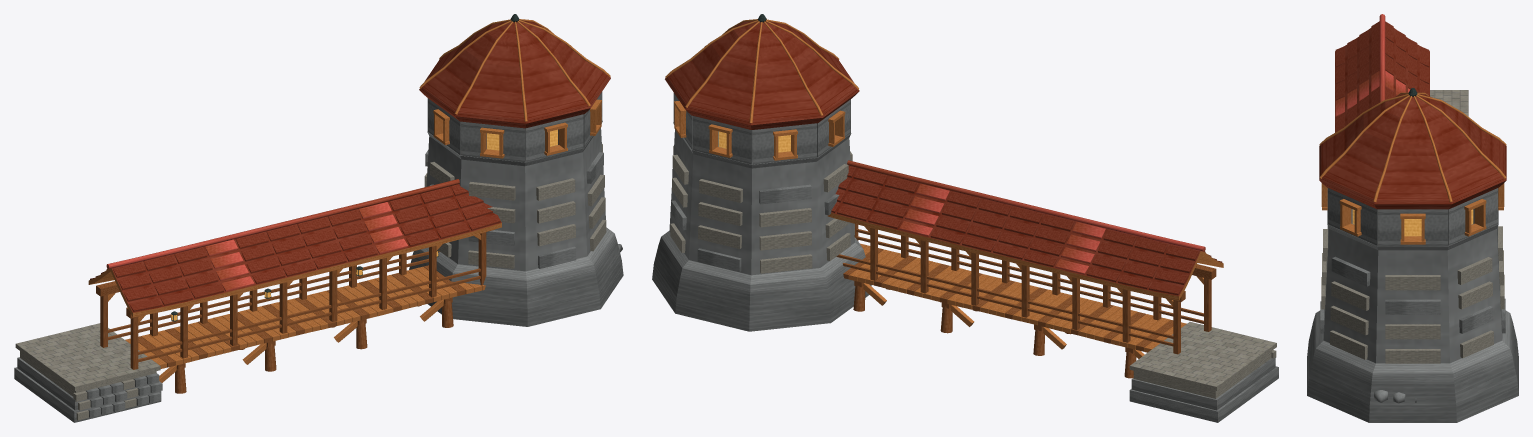
File: alps_kapell_bridge_mid.glb
The picture shows the model from 3 angles, left to right: view 1: azimuth 30°, elevation 25°; view 2: azimuth 150°, elevation 25°; view 3: azimuth 270°, elevation 25°; orthographic projection. The views are drawn at different scales.
Visible parts, largest first — view 1: alps_kapell_bridge_mid; view 2: alps_kapell_bridge_mid; view 3: alps_kapell_bridge_mid.
Part boxes in pixels (x1,y1,x2,y2): alps_kapell_bridge_mid: [14, 14, 623, 422]; alps_kapell_bridge_mid: [652, 14, 1278, 422]; alps_kapell_bridge_mid: [1307, 14, 1518, 422].
Bounding box in the file's own units: 30 × 13.5 × 9.
2 materials, 2 textured.
